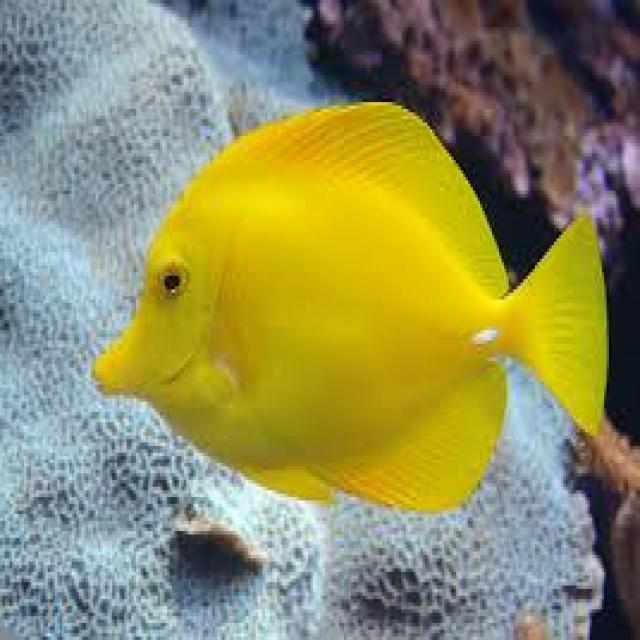YellowTang: (90, 88, 615, 541)
